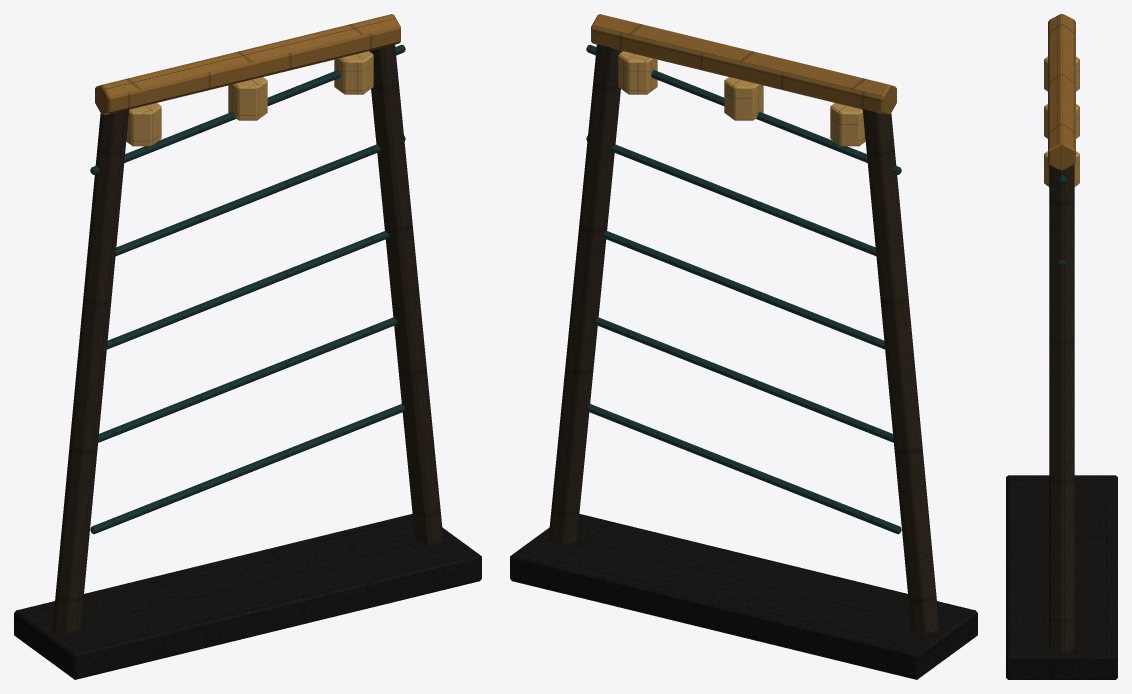
Rendered from net-frame.e5.glb.
3 views of the same model, side by side, from view 1: azimuth 30°, elevation 25°; view 2: azimuth 150°, elevation 25°; view 3: azimuth 270°, elevation 25° (orthographic). The views are drawn at different scales.
Parts seen in each view (by area): view 1: NetFrameE5; view 2: NetFrameE5; view 3: NetFrameE5.
Part boxes in pixels (x1,y1,x2,y2): NetFrameE5: (14, 14, 481, 679); NetFrameE5: (510, 14, 977, 679); NetFrameE5: (1006, 14, 1117, 679).
Size of the model in its own units: 1.62 by 2.12 by 0.42.
1 material, 1 textured.
